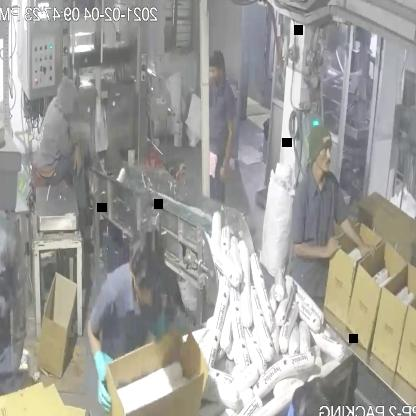glove: (91, 341, 118, 416)
no_glove: (290, 224, 343, 269), (342, 213, 382, 269), (213, 113, 240, 191), (70, 132, 82, 180)
